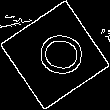O_W: (26, 29, 84, 81)
